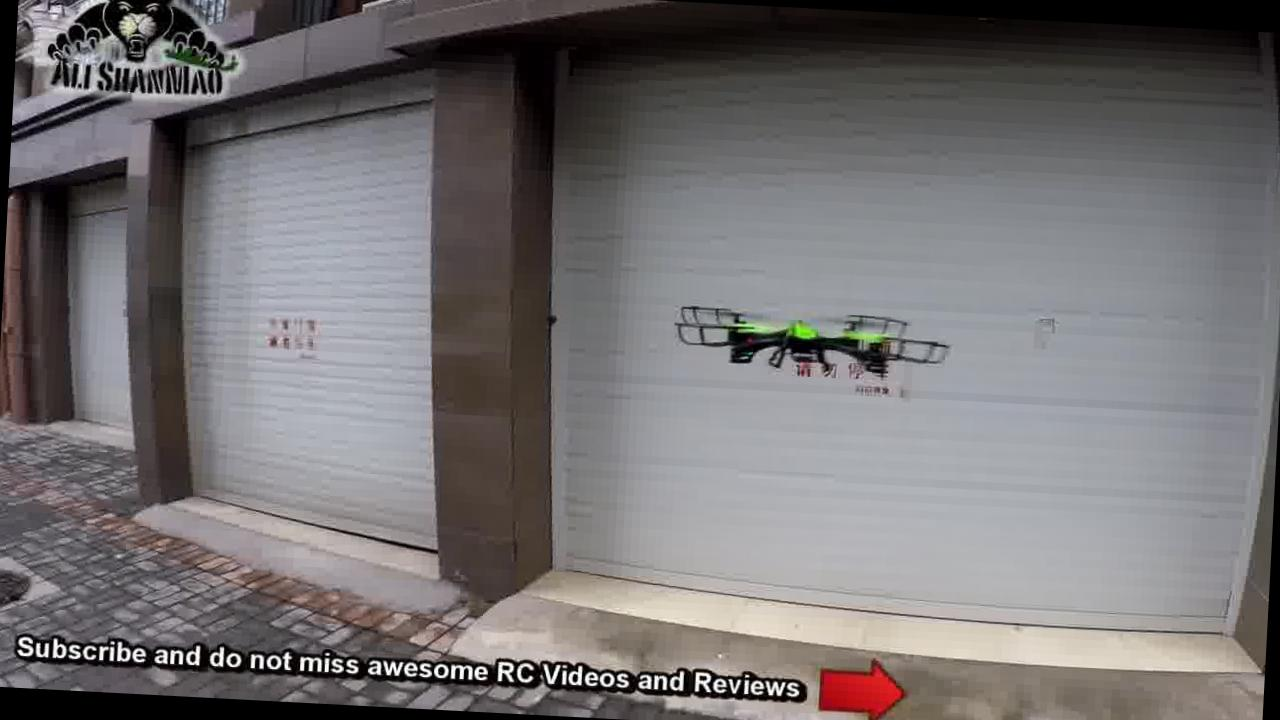drone: (674, 284, 951, 390)
